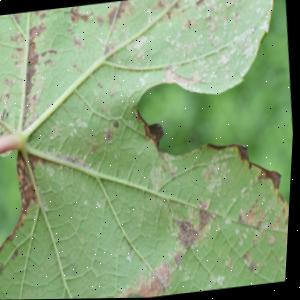Folha: (0, 0, 300, 300)
Fungo: (108, 194, 225, 299), (0, 146, 46, 253), (131, 99, 182, 182), (173, 195, 220, 251), (132, 101, 169, 156), (149, 260, 177, 297), (176, 216, 203, 251), (197, 195, 219, 231), (146, 120, 167, 150), (0, 107, 12, 141), (103, 126, 115, 143), (89, 137, 100, 154), (226, 255, 237, 271), (125, 292, 148, 298), (269, 233, 278, 246), (13, 247, 21, 260), (113, 120, 121, 129), (0, 264, 6, 274), (109, 88, 115, 96), (97, 81, 103, 88)
